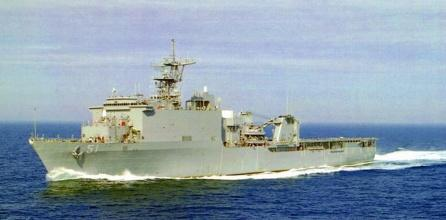warship: (29, 35, 399, 179)
